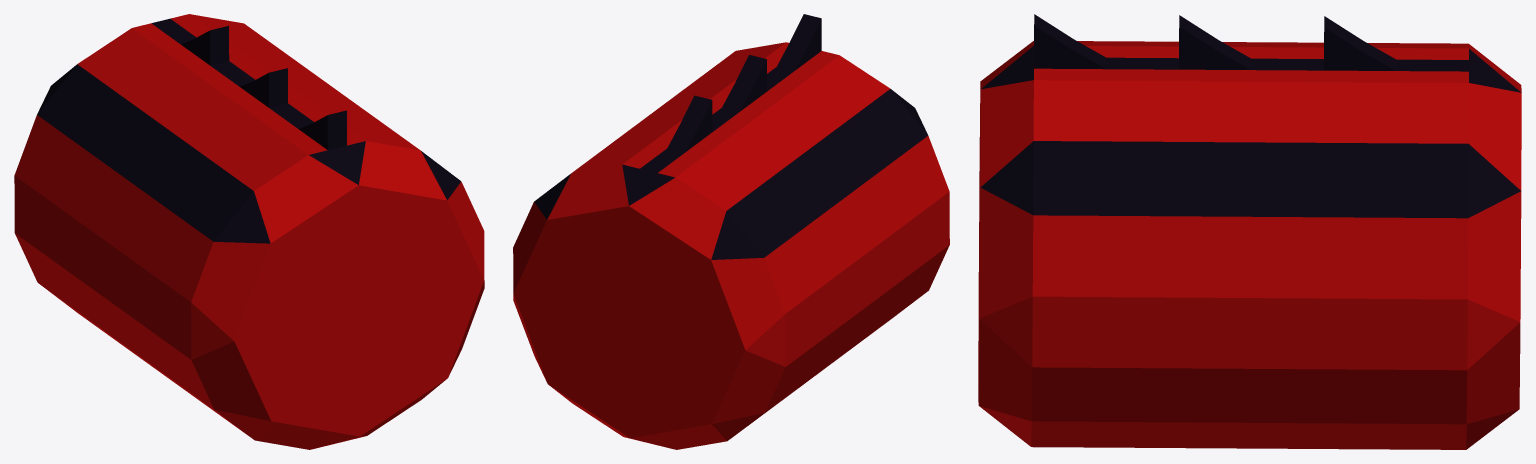
The model's file is bodyB.fbx.
3 views of the same model, side by side, from view 1: azimuth 30°, elevation 25°; view 2: azimuth 150°, elevation 25°; view 3: azimuth 270°, elevation 25° (orthographic). The views are drawn at different scales.
Parts seen in each view (by area): view 1: Cylinder.002; view 2: Cylinder.002; view 3: Cylinder.002.
Part boxes in pixels (x1,y1,x2,y2): Cylinder.002: (14, 14, 484, 449); Cylinder.002: (513, 14, 949, 449); Cylinder.002: (978, 14, 1521, 449).
Size of the model in its own units: 1.58 by 1.47 by 1.91.
